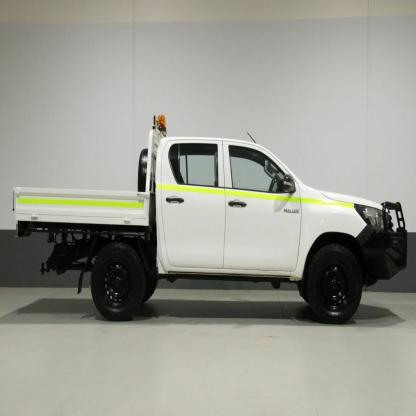light_vehicle: (8, 108, 416, 340)
